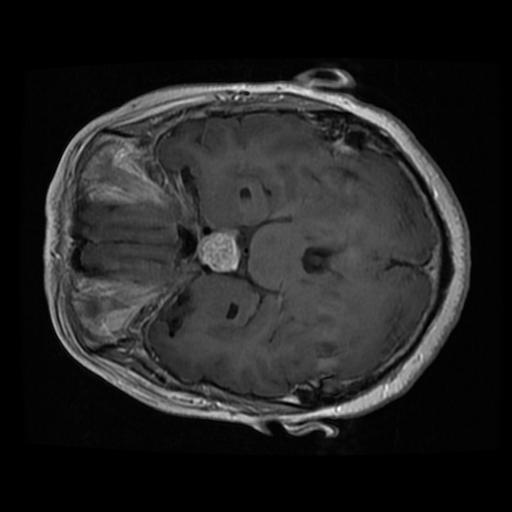pituitary tumour: (197, 233, 238, 272)
